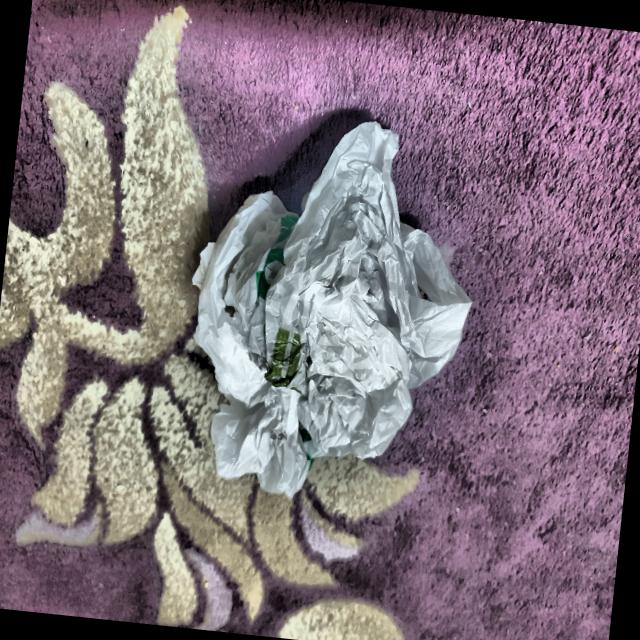plastic bag: (160, 90, 501, 525)
